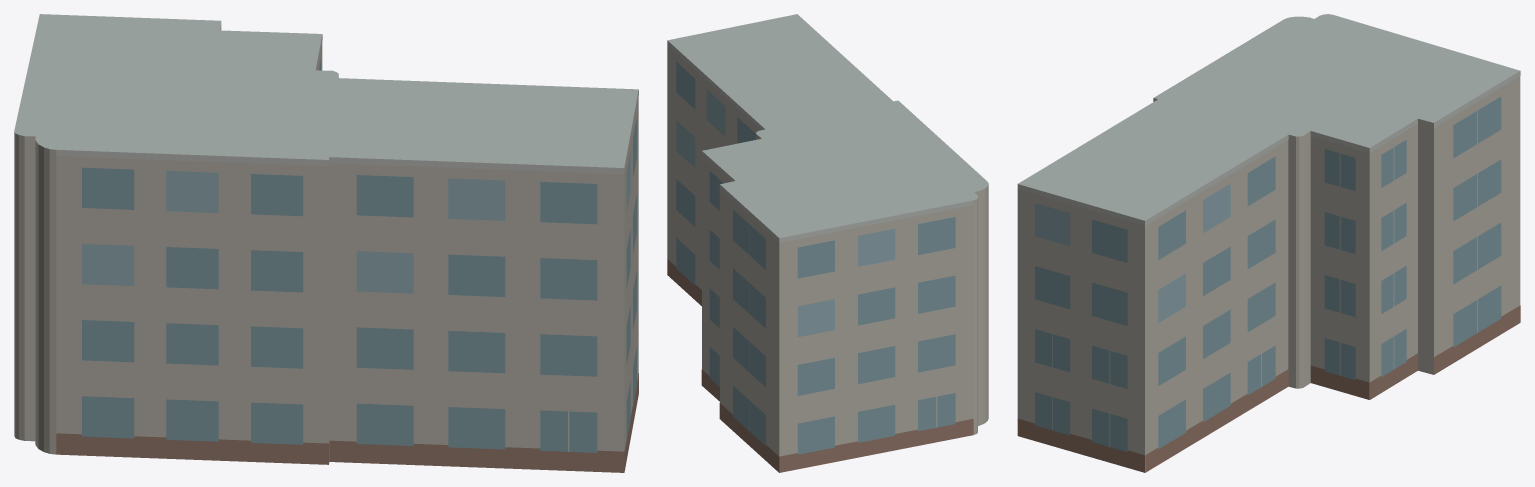
File: survey-upis-32826460.glb
3 renders of one model, left to right at view 1: azimuth 30°, elevation 25°; view 2: azimuth 150°, elevation 25°; view 3: azimuth 270°, elevation 25°, orthographic. The views are drawn at different scales.
Visible parts, largest first — view 1: survey-upis-32826460.tmp; view 2: survey-upis-32826460.tmp; view 3: survey-upis-32826460.tmp.
Part boxes in pixels (left/top/right/bottom): survey-upis-32826460.tmp: left=14, top=14, right=638, bottom=472; survey-upis-32826460.tmp: left=667, top=14, right=988, bottom=472; survey-upis-32826460.tmp: left=1017, top=14, right=1520, bottom=472.
Size of the model in its own units: 21.48 by 12.2 by 22.07.
